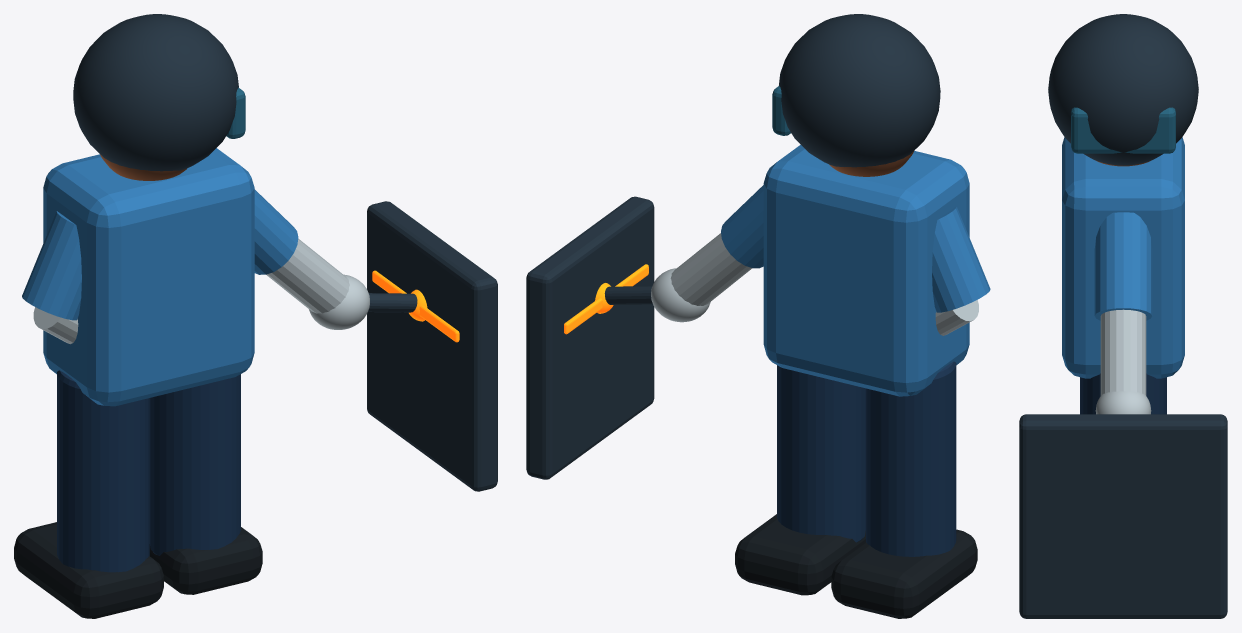
File: repsa-welding-technician-concept.glb
3 renders of one model, left to right at view 1: azimuth 30°, elevation 25°; view 2: azimuth 150°, elevation 25°; view 3: azimuth 270°, elevation 25°, orthographic. The views are drawn at different scales.
Visible parts, largest first — view 1: Coverall torso, Welding workpiece, Welding helmet, Left leg, Right leg, Left boot, Right boot, Rear upper arm, Forward forearm, Forward upper arm, Forward glove, Rear forearm (+3 smaller); view 2: Coverall torso, Welding workpiece, Welding helmet, Left leg, Right leg, Left boot, Right boot, Rear upper arm, Forward forearm, Forward upper arm, Forward glove, Rear forearm (+3 smaller); view 3: Welding workpiece, Coverall torso, Welding helmet, Forward upper arm, Forward forearm, Welding visor, Right leg, Forward glove.
Boxes of the visible parts, x1,y1,x2,y2 form: Coverall torso: (43,148,254,406); Welding workpiece: (367,201,497,491); Welding helmet: (73,14,238,171); Left leg: (57,370,149,572); Right leg: (149,374,240,555); Left boot: (14,522,163,618); Right boot: (149,527,262,594); Rear upper arm: (22,211,81,320); Forward forearm: (266,238,349,313); Forward upper arm: (254,189,298,274); Forward glove: (309,274,369,329); Rear forearm: (33,307,78,344); Coverall torso: (763,144,969,396); Welding workpiece: (526,196,654,479); Welding helmet: (779,14,940,167); Left leg: (866,361,956,556); Right leg: (777,365,865,542); Left boot: (831,529,977,618); Right boot: (735,514,865,595); Rear upper arm: (932,206,990,312); Forward forearm: (670,233,752,305); Forward upper arm: (721,185,763,268); Forward glove: (651,268,710,322); Rear forearm: (935,300,978,335); Welding workpiece: (1019,414,1227,618); Coverall torso: (1062,137,1184,378); Welding helmet: (1048,14,1198,165); Forward upper arm: (1094,212,1152,320); Forward forearm: (1100,309,1146,395); Welding visor: (1071,107,1175,153); Right leg: (1080,373,1166,414); Forward glove: (1095,391,1151,414).
Size of the model in its own units: 2.29 by 2.94 by 1.05.
